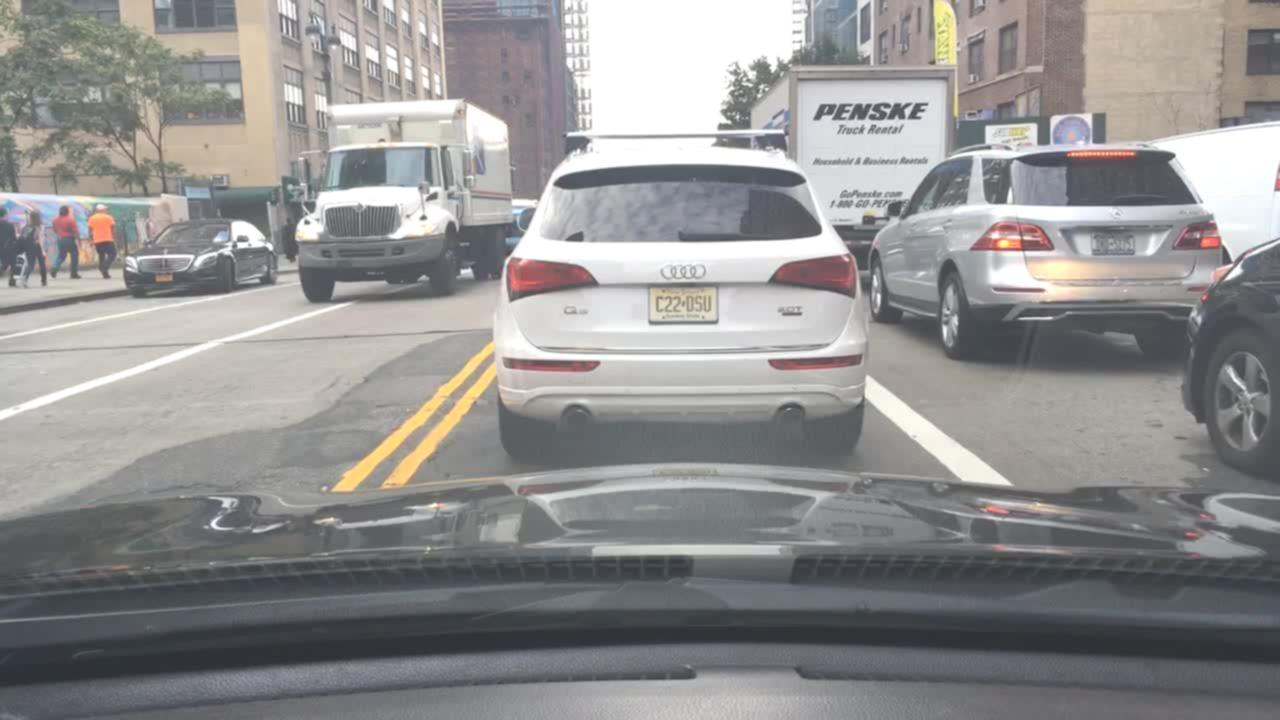Audi: (647, 253, 724, 296)
Mercedes: (1106, 204, 1131, 224)
